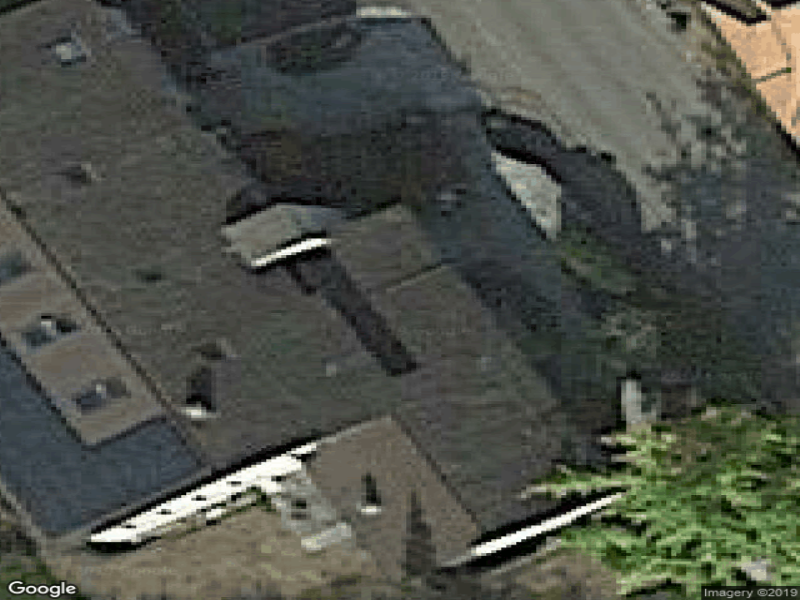pv: (1, 335, 204, 543)
